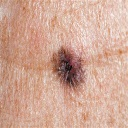Melanoma: (52, 47, 85, 85)
